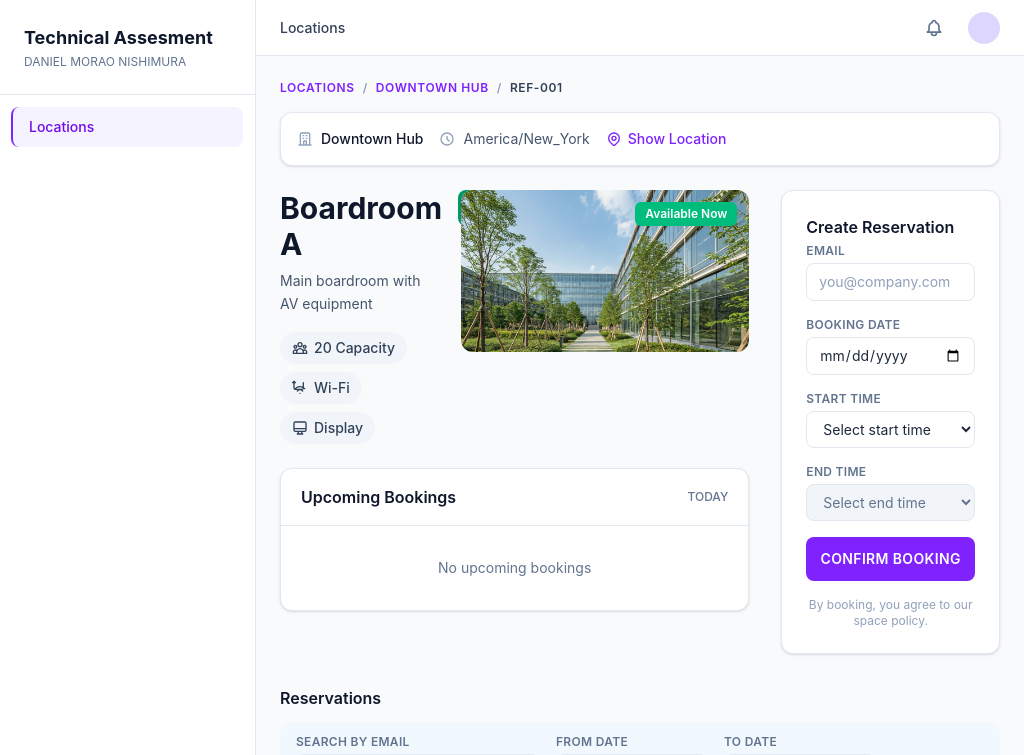
it: Space Detail page › shows invalid email error for bad email input
This screenshot has width=1024, height=755.
In the field labelled "Email": (891, 282) [806,263,975,301], type "not-an-email"
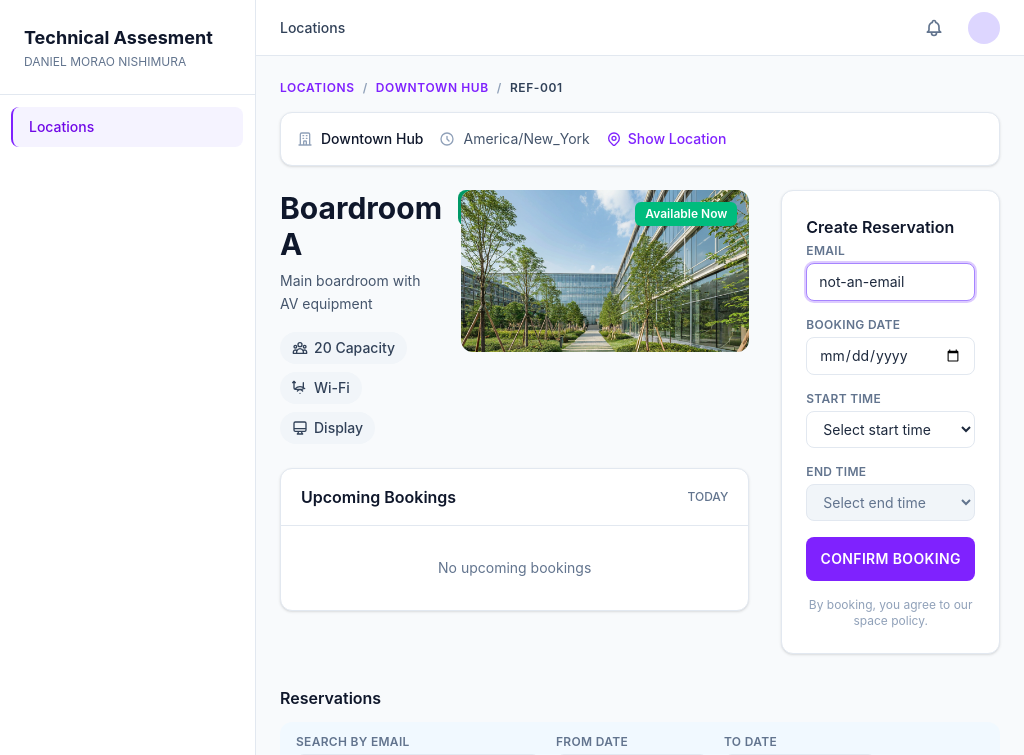
Click the button "Confirm Booking": (891, 559) [806,537,975,581]
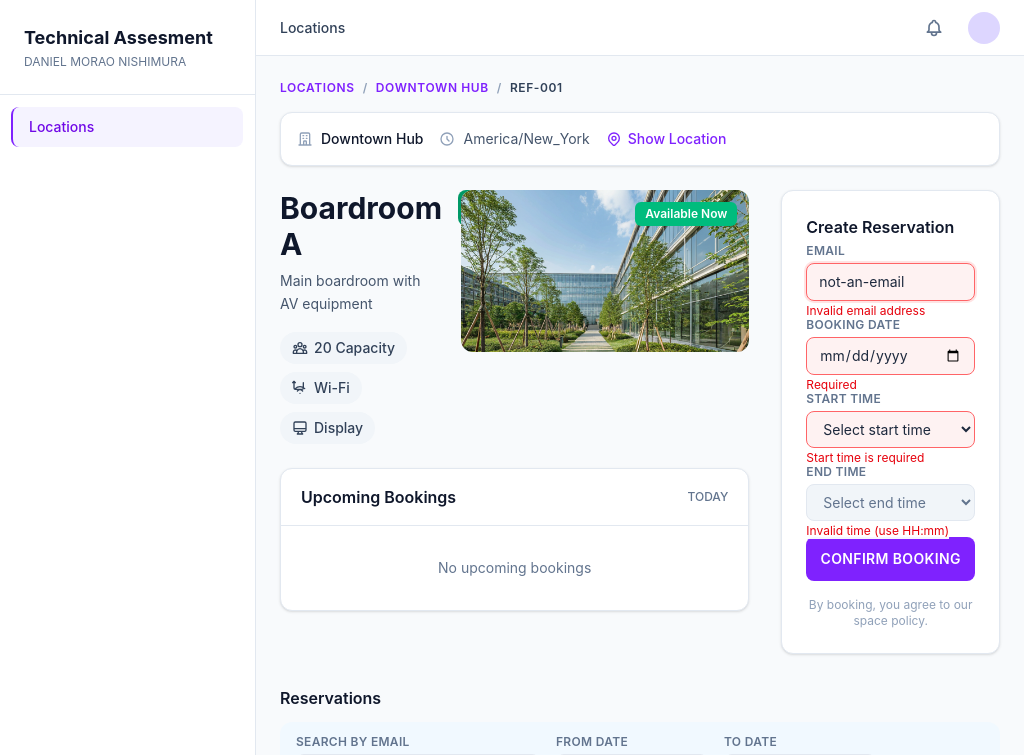
Expected: the text "Invalid email" is shown, [806,303,925,318]
